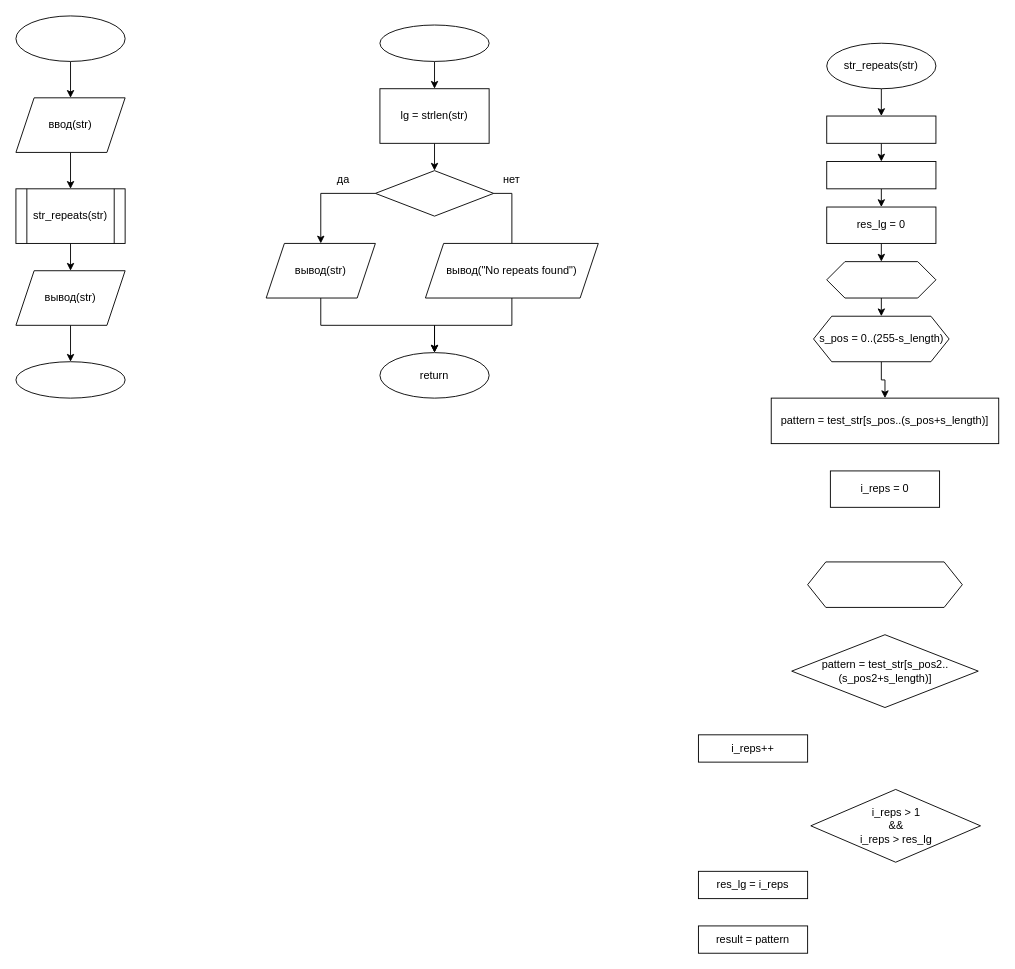
Some shapes in this 1015 by 969 pixel diagram are drawn without their labels. The centre of each missing label's shape, as x and y in pixels:
"lg > 0" belongs at [434,193].
"print(str)" belongs at [434,42].
"result = ''" belongs at [881,175].
"s_length = 255..0" belongs at [881,279].
"s_pos2 = 0..(255-s_length)" belongs at [884,584].
"test_str = str" belongs at [881,129].
"конец" belongs at [70,379].
"начало" belongs at [70,38].
